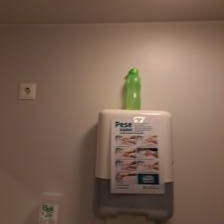bottle: (121, 66, 143, 113)
